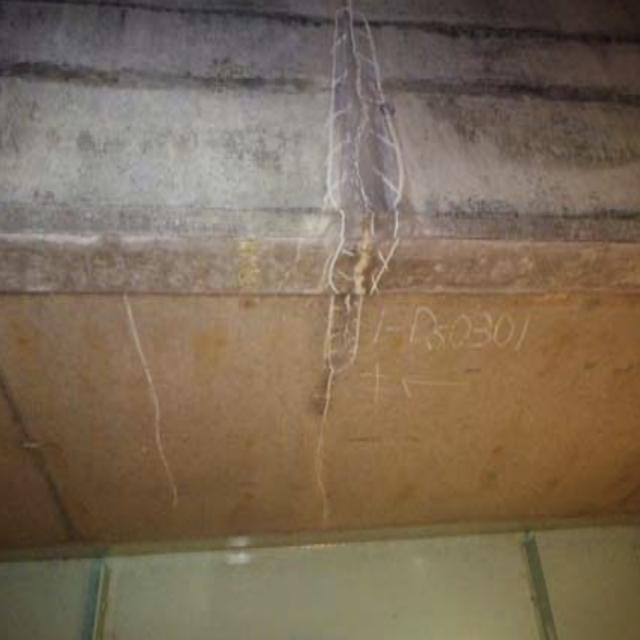spalling: (306, 17, 413, 399)
